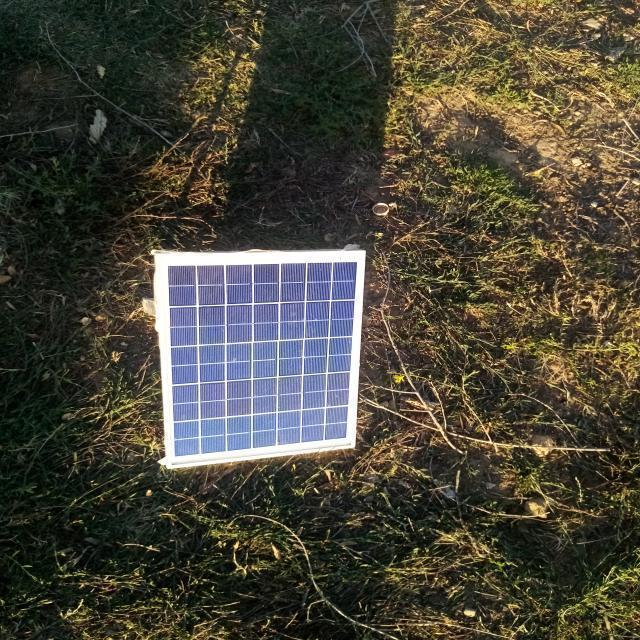Normal Solar Panel: (156, 253, 366, 467)
